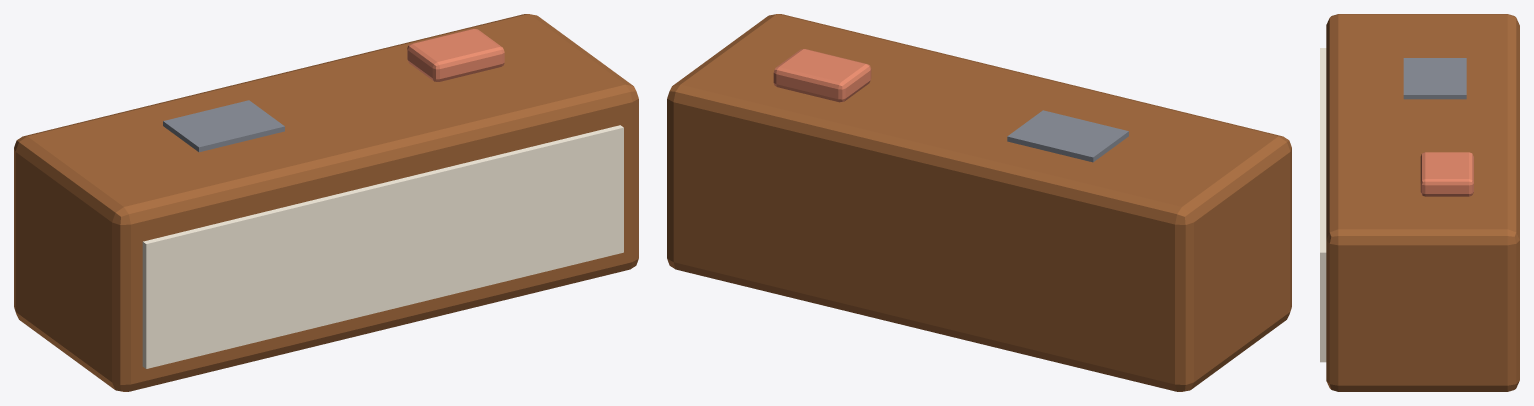
The model's file is int_mejaDosen.fbx.
The picture shows the model from 3 angles, left to right: view 1: azimuth 30°, elevation 25°; view 2: azimuth 150°, elevation 25°; view 3: azimuth 270°, elevation 25°; orthographic projection. The views are drawn at different scales.
Parts seen in each view (by area): view 1: int_mejaDosen; view 2: int_mejaDosen; view 3: int_mejaDosen.
Boxes of the visible parts, left/top/right/bottom form: int_mejaDosen: left=14, top=14, right=638, bottom=391; int_mejaDosen: left=667, top=14, right=1291, bottom=391; int_mejaDosen: left=1320, top=14, right=1519, bottom=391.
Bounding box in the file's own units: 220 × 82 × 82.5.
Materials: 1 (1 with a texture image).
